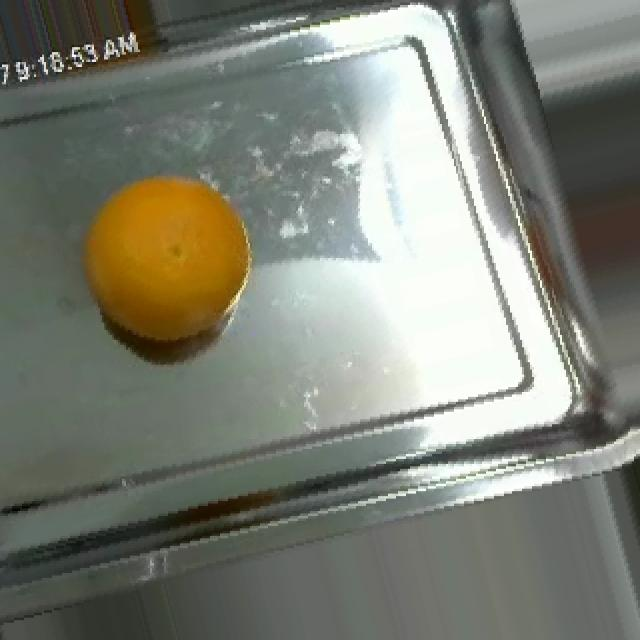Fruit: (66, 154, 272, 367)
